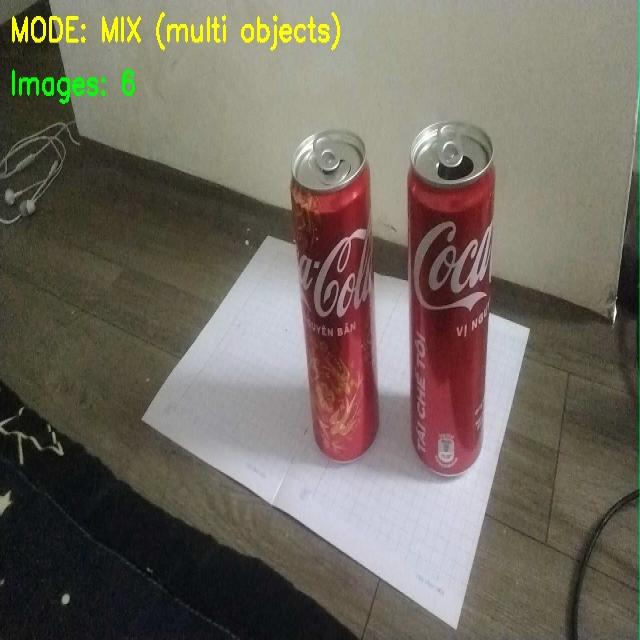Coca: (288, 116, 381, 468)
Coca_open: (403, 116, 502, 478)
